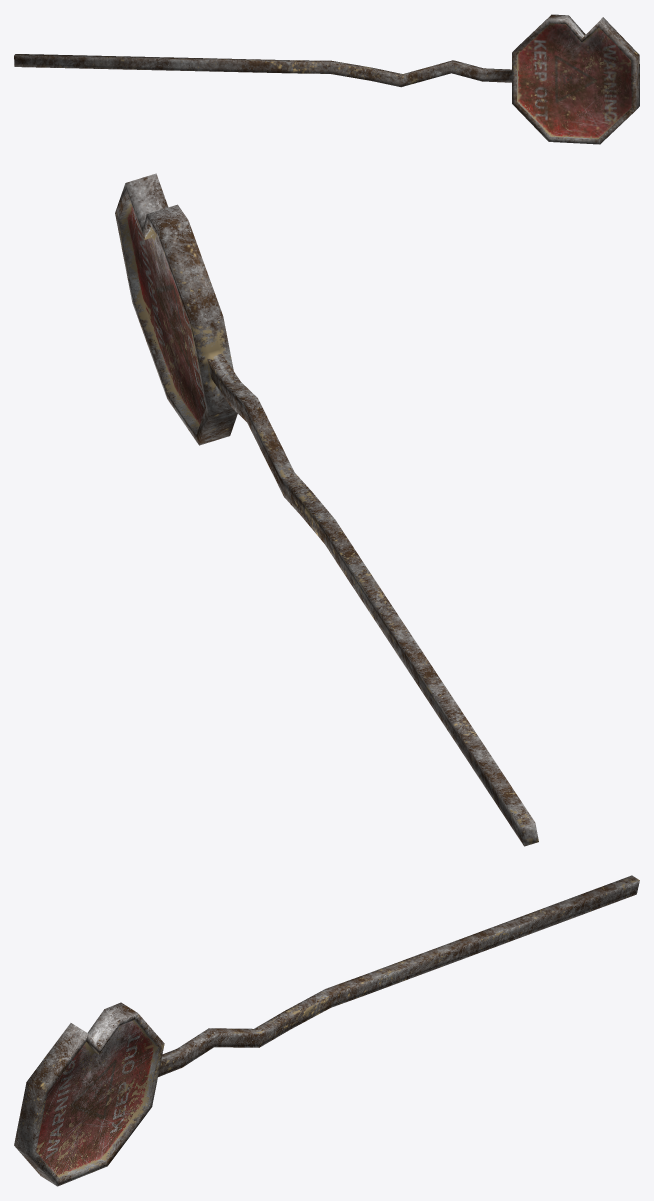
The model's file is Anim_idle_senyal_objetos.0023.obj.
3 renders of one model, top to bottom at view 1: azimuth 30°, elevation 25°; view 2: azimuth 150°, elevation 25°; view 3: azimuth 270°, elevation 25°, orthographic. The views are drawn at different scales.
Size of the model in its own units: 9.47 by 2.56 by 8.66.
